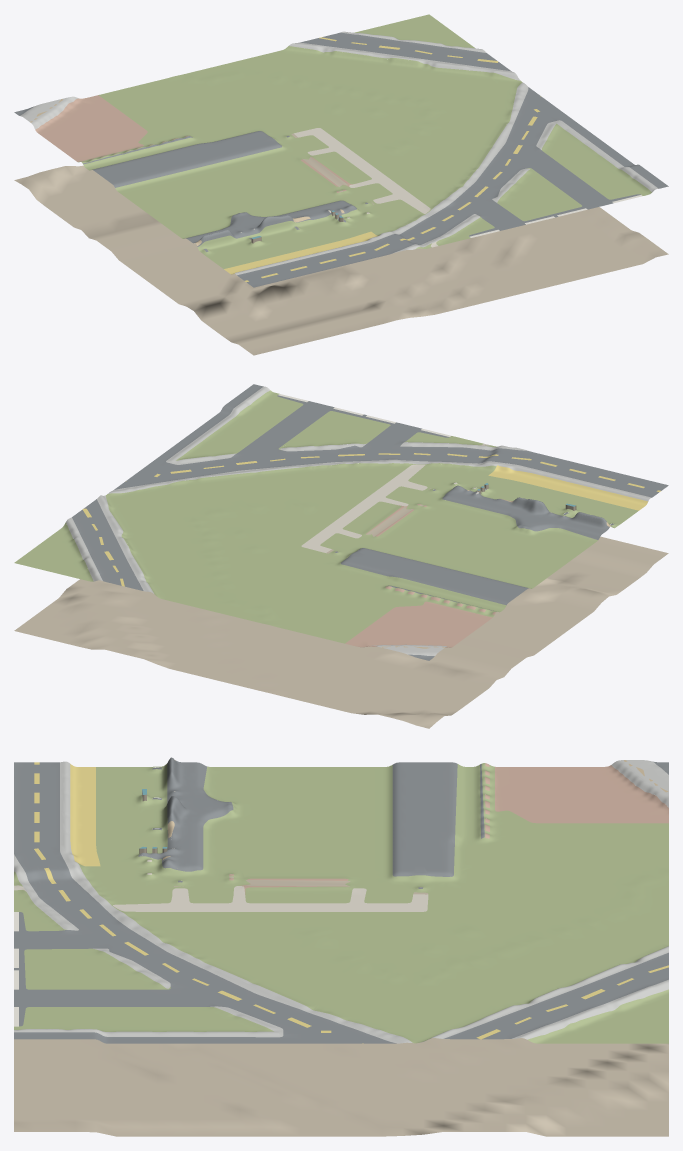
3 views of the same model, one above another, from view 1: azimuth 30°, elevation 25°; view 2: azimuth 150°, elevation 25°; view 3: azimuth 270°, elevation 25° (orthographic). The views are drawn at different scales.
Visible parts, largest first — view 1: s_-9_2__grass, s_-9_2__soil, s_-9_2__asphalt, s_-9_2__stone_paving, s_-9_2__brick_paving, s_-9_2__paving, s_-9_2__yellow_marking; view 2: s_-9_2__grass, s_-9_2__soil, s_-9_2__asphalt, s_-9_2__stone_paving, s_-9_2__brick_paving, s_-9_2__yellow_marking, s_-9_2__paving; view 3: s_-9_2__grass, s_-9_2__soil, s_-9_2__asphalt, s_-9_2__stone_paving, s_-9_2__brick_paving, s_-9_2__yellow_marking, s_-9_2__paving.
Part boxes in pixels (x1,y1,x2,y2): s_-9_2__grass: [78, 14, 651, 268]; s_-9_2__soil: [14, 133, 668, 355]; s_-9_2__asphalt: [14, 32, 668, 287]; s_-9_2__stone_paving: [20, 31, 658, 275]; s_-9_2__brick_paving: [35, 95, 355, 192]; s_-9_2__paving: [241, 128, 438, 247]; s_-9_2__yellow_marking: [224, 37, 540, 282]; s_-9_2__grass: [14, 390, 638, 643]; s_-9_2__soil: [14, 488, 668, 728]; s_-9_2__asphalt: [72, 384, 668, 660]; s_-9_2__stone_paving: [66, 386, 651, 655]; s_-9_2__brick_paving: [345, 504, 495, 647]; s_-9_2__yellow_marking: [82, 453, 660, 586]; s_-9_2__paving: [301, 443, 564, 553]; s_-9_2__grass: [14, 763, 668, 1043]; s_-9_2__soil: [14, 859, 668, 1136]; s_-9_2__asphalt: [14, 757, 668, 1043]; s_-9_2__stone_paving: [14, 760, 668, 1043]; s_-9_2__brick_paving: [229, 763, 668, 894]; s_-9_2__yellow_marking: [34, 762, 668, 1043]; s_-9_2__paving: [14, 791, 428, 911].
Bounding box in the file's own units: 128 × 23.95 × 128.
